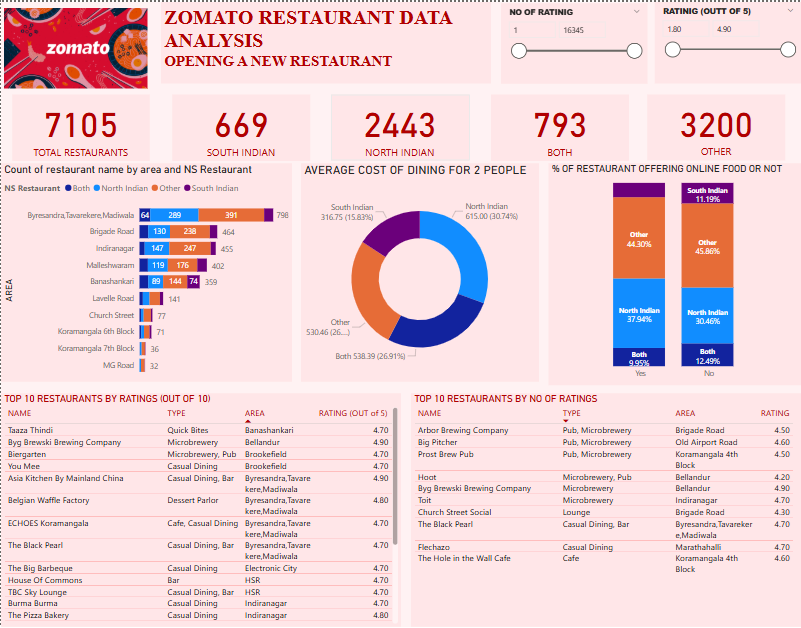

Layout of this report page (visuals, bound fields, positions):
{"tool":"powerbi","page":{"name":"Page 1","canvas":[1280,1000],"ordinal":0},"visuals":[{"type":"card","fields":{"Values":["Count(zomato.restaurant name)"]},"box":[18.2,147.3,220,106],"z":0},{"type":"card","fields":{"Values":["Count(zomato.restaurant name)"]},"box":[273.3,147.3,220.6,106.7],"z":1000},{"type":"card","fields":{"Values":["Count(zomato.restaurant name)"]},"box":[529,147.3,220.6,106.7],"z":2000},{"type":"card","fields":{"Values":["Count(zomato.restaurant name)"]},"box":[1034.3,147.8,220.8,105.3],"z":3000},{"type":"card","fields":{"Values":["Count(zomato.restaurant name)"]},"box":[784.7,147.3,220.6,106.7],"z":4000},{"type":"barChart","fields":{"Category":["zomato.area"],"Y":["Count(zomato.restaurant name)"],"Series":["zomato.NS Restaurant"]},"box":[0,258.2,465.4,349.9],"z":5000},{"type":"donutChart","title":"AVERAGE COST OF DINING FOR 2 PEOPLE","fields":{"Y":["Avg(zomato.avg cost (two people))"],"Category":["zomato.NS Restaurant"]},"box":[480.6,258.2,380.4,349.9],"z":6000},{"type":"hundredPercentStackedColumnChart","title":"% OF RESTAURANT OFFERING ONLINE FOOD OR NOT ","fields":{"Category":["zomato.online_order"],"Y":["Count(zomato.restaurant name)"],"Series":["zomato.NS Restaurant"]},"box":[876.4,258.2,404.2,355],"z":7000},{"type":"tableEx","title":"TOP 10 RESTAURANTS BY RATINGS (OUT OF 10)","fields":{"Values":["zomato.restaurant name","zomato.restaurant type","zomato.area","Avg(zomato.rate (out of 5))"]},"box":[0,626.7,640.3,373.6],"z":8000},{"type":"tableEx","title":"TOP 10 RESTAURANTS BY NO OF RATINGS","fields":{"Values":["zomato.restaurant name","zomato.restaurant type","zomato.area","Avg(zomato.rate (out of 5))"]},"box":[655.6,626.7,625,373.6],"z":9000},{"type":"textbox","box":[256.5,0,528.2,130.8],"z":10000},{"type":"image","box":[0,0,239.5,147.8],"z":11000},{"type":"slicer","fields":{"Values":["zomato.rate (out of 5)"]},"box":[1046.2,0,234.4,130.8],"z":12000},{"type":"slicer","fields":{"Values":["zomato.num of ratings"]},"box":[799.9,1.7,234.4,129.1],"z":13000}]}

Visuals, with their boxes in screenshot pixels (x1, y1, x2, y2), scaled from the page's 1280x1000 canvas onto the 801x628 screenshot:
card - Count(zomato.restaurant name): 11,93,149,159
card - Count(zomato.restaurant name): 171,93,309,160
card - Count(zomato.restaurant name): 331,93,469,160
card - Count(zomato.restaurant name): 647,93,785,159
card - Count(zomato.restaurant name): 491,93,629,160
barChart - zomato.area x Count(zomato.restaurant name): 0,162,291,382
"AVERAGE COST OF DINING FOR 2 PEOPLE" donutChart: 301,162,539,382
"% OF RESTAURANT OFFERING ONLINE FOOD OR NOT " hundredPercentStackedColumnChart: 548,162,800,385
"TOP 10 RESTAURANTS BY RATINGS (OUT OF 10)" tableEx: 0,394,401,627
"TOP 10 RESTAURANTS BY NO OF RATINGS" tableEx: 410,394,800,627
textbox: 161,0,491,82
image: 0,0,150,93
slicer - zomato.rate (out of 5): 655,0,800,82
slicer - zomato.num of ratings: 501,1,647,82
